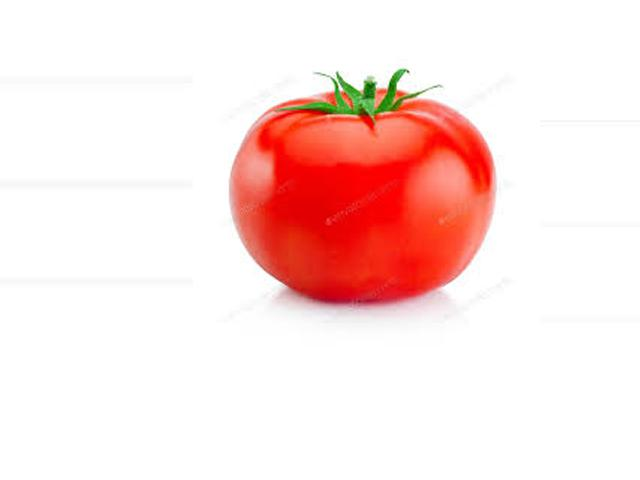tomato: (229, 89, 496, 296)
